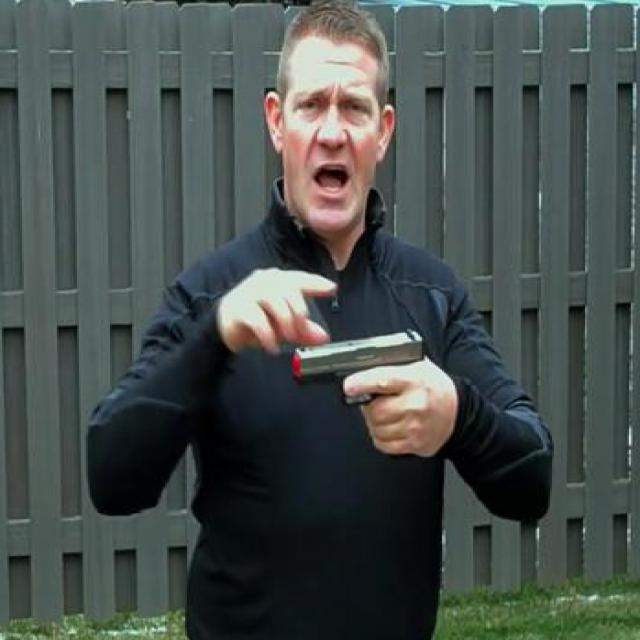Gun: (290, 326, 433, 456)
